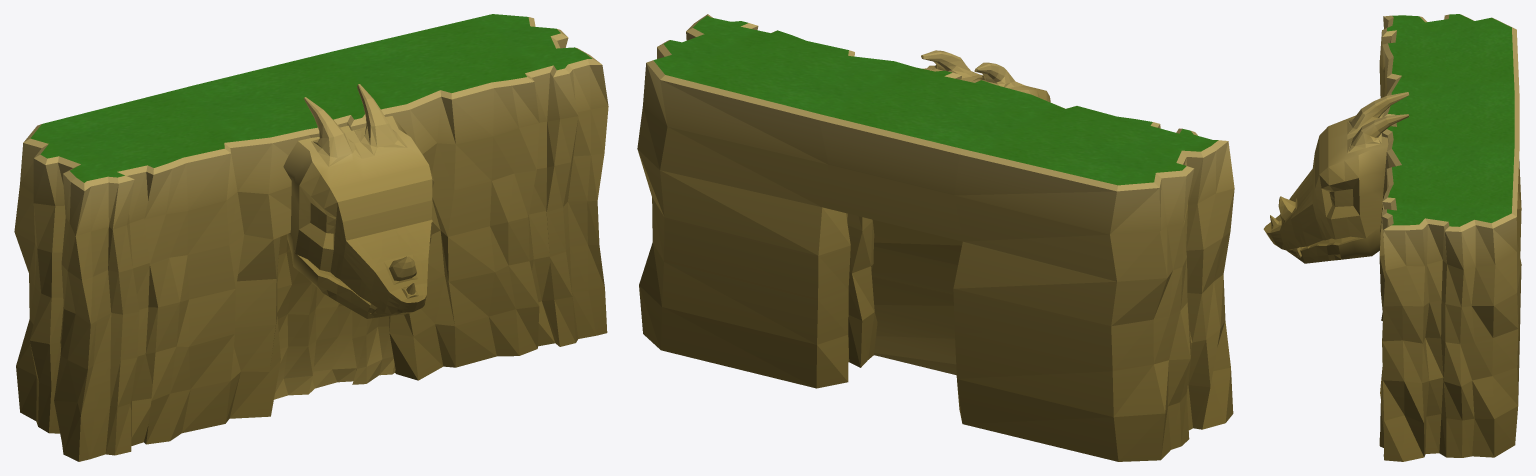
File: AdvancedDragonGate.FBX
3 renders of one model, left to right at view 1: azimuth 30°, elevation 25°; view 2: azimuth 150°, elevation 25°; view 3: azimuth 270°, elevation 25°, orthographic. The views are drawn at different scales.
Parts seen in each view (by area): view 1: BottomDragonGate001, DragonGate; view 2: BottomDragonGate001, DragonGate; view 3: BottomDragonGate001, DragonGate.
Boxes of the visible parts, bbox=[...] form: BottomDragonGate001: bbox=[14, 14, 608, 461]; DragonGate: bbox=[274, 233, 405, 399]; BottomDragonGate001: bbox=[637, 14, 1234, 461]; DragonGate: bbox=[871, 220, 962, 375]; BottomDragonGate001: bbox=[1263, 14, 1521, 461]; DragonGate: bbox=[1286, 228, 1380, 263].
Bounding box in the file's own units: 559 × 294 × 276.
